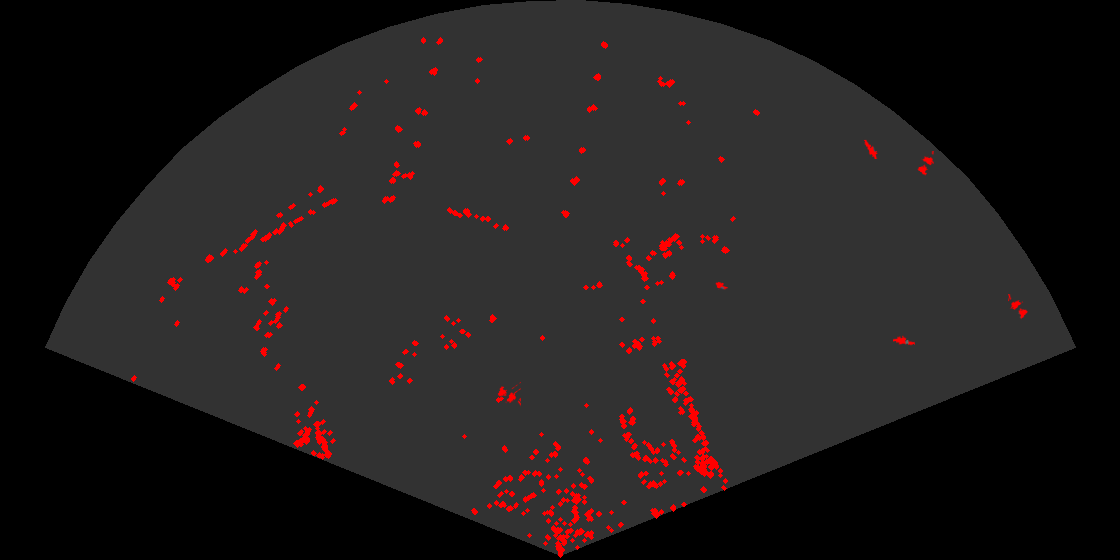AUV: (714, 280, 729, 290)
cage: (496, 380, 521, 408), (1008, 294, 1029, 321), (916, 151, 934, 177)
frogman: (862, 138, 879, 159), (893, 334, 915, 347)
